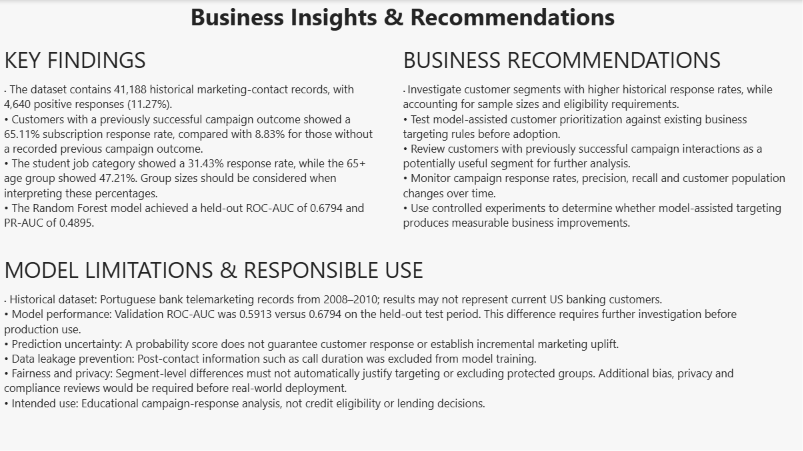

The page's visual inventory and layout, read from the dashboard file:
{"tool":"powerbi","page":{"name":"Business Insights & Recommendations","canvas":[1920,1080],"ordinal":3},"visuals":[{"type":"textbox","box":[0,0,1920.7,83.5],"z":0},{"type":"textbox","box":[9.5,105,899.5,465.3],"z":1},{"type":"textbox","box":[961.5,105,913.8,465.3],"z":2},{"type":"textbox","box":[9.5,606,1865.8,443.8],"z":3}]}

Visuals, with their boxes in screenshot pixels (x1, y1, x2, y2), scaled from the page's 1920x1080 canvas onto the 803x451 screenshot:
textbox: {"x1": 0, "y1": 0, "x2": 802, "y2": 35}
textbox: {"x1": 4, "y1": 44, "x2": 380, "y2": 238}
textbox: {"x1": 402, "y1": 44, "x2": 784, "y2": 238}
textbox: {"x1": 4, "y1": 253, "x2": 784, "y2": 438}
